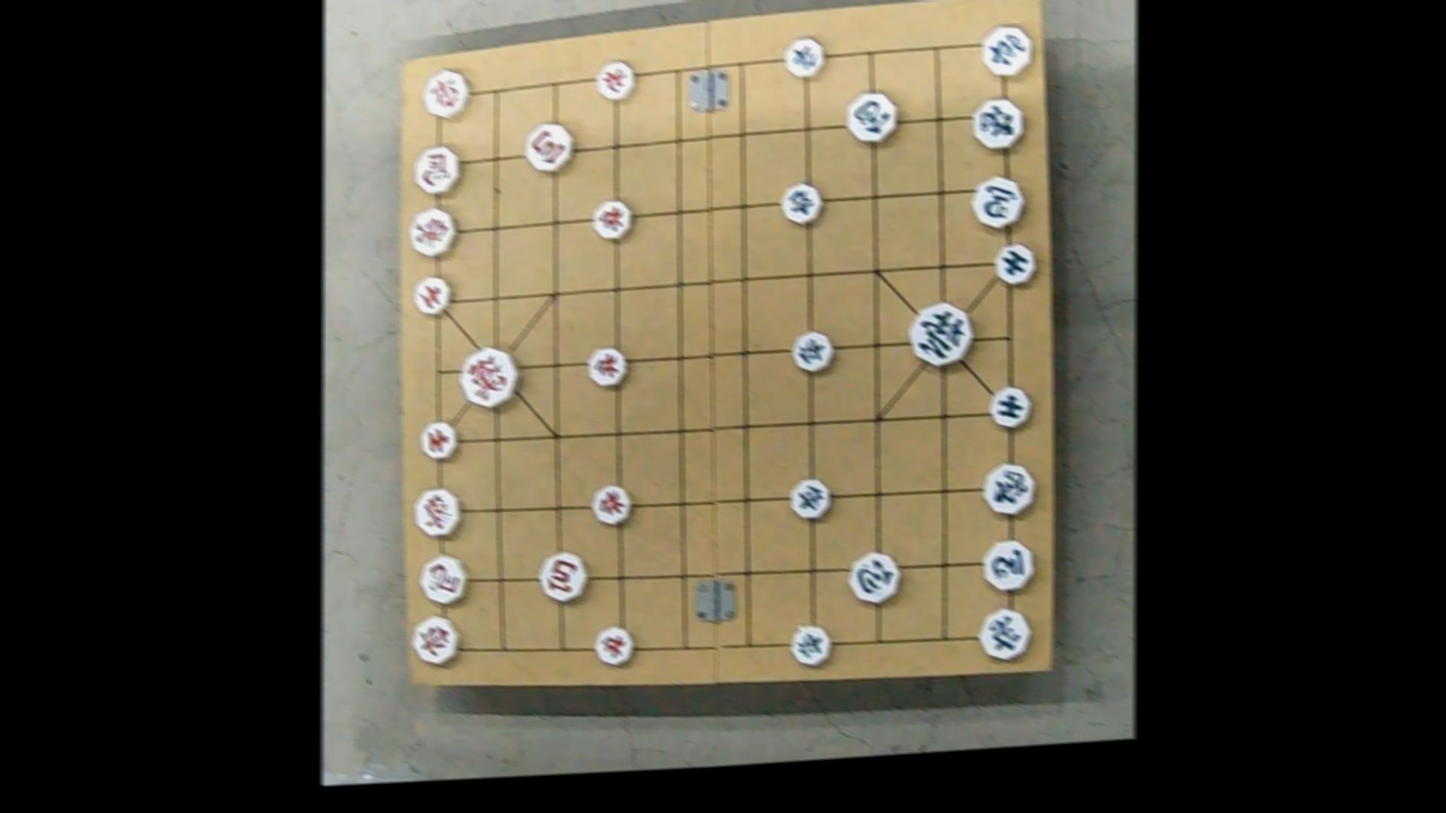cha_green: (975, 605, 1030, 662), (983, 23, 1032, 79)
cha_red: (413, 612, 459, 667), (426, 66, 469, 121)
jol_green: (781, 179, 819, 228), (792, 620, 830, 669), (792, 477, 831, 522), (788, 35, 825, 81), (794, 327, 830, 373)
jol_red: (596, 57, 632, 105), (588, 346, 627, 390), (594, 196, 631, 242), (595, 623, 631, 668), (594, 482, 630, 527)
ma_green: (974, 173, 1024, 230), (984, 537, 1033, 595)
ma_red: (421, 552, 466, 607), (416, 145, 459, 198)
po_green: (852, 548, 898, 604), (848, 91, 895, 145)
po_red: (527, 121, 573, 175), (541, 550, 586, 605)
sa_green: (989, 385, 1029, 432), (995, 242, 1034, 287)
sa_red: (412, 273, 453, 318), (417, 416, 456, 462)
sang_green: (969, 96, 1024, 154), (980, 458, 1033, 516)
sang_red: (412, 203, 458, 260), (417, 486, 464, 539)
wang_green: (912, 301, 970, 369)
wang_red: (465, 345, 519, 408)
